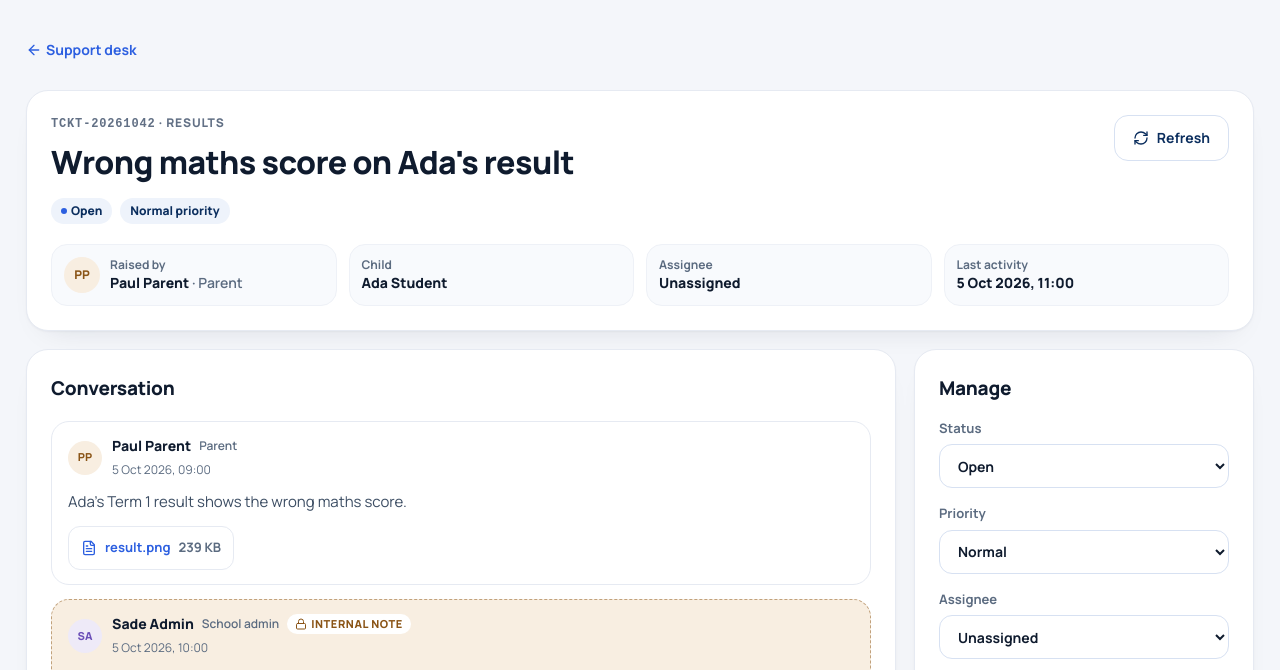
Test: 409 handling › a change to a ticket closed meanwhile says it is closed
The image size is (1280, 670).
expect the heading "Wrong maths score on Ada's result" is shown: met, box [51,138,574,186]
Select "High" in the dropdown labelled "Priority" at (1084, 552), box [939,530,1229,574]
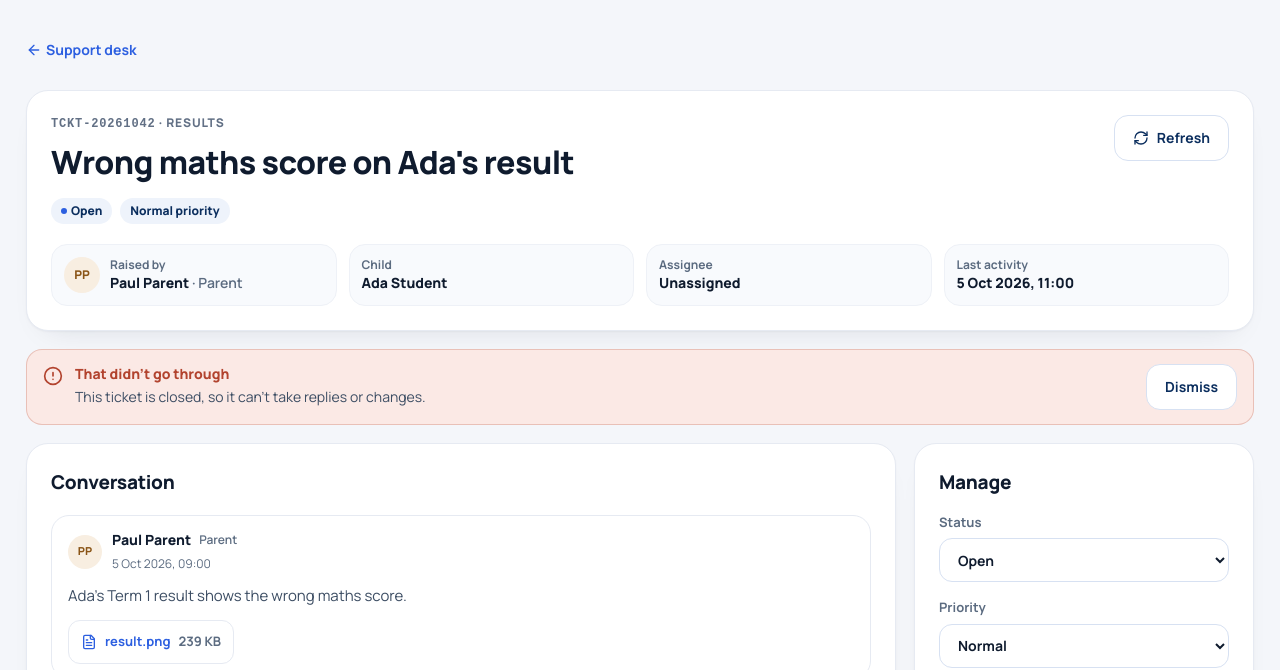
expect the text "This ticket is closed, so it can't take replies or changes." is shown: met, box [75,387,426,406]
